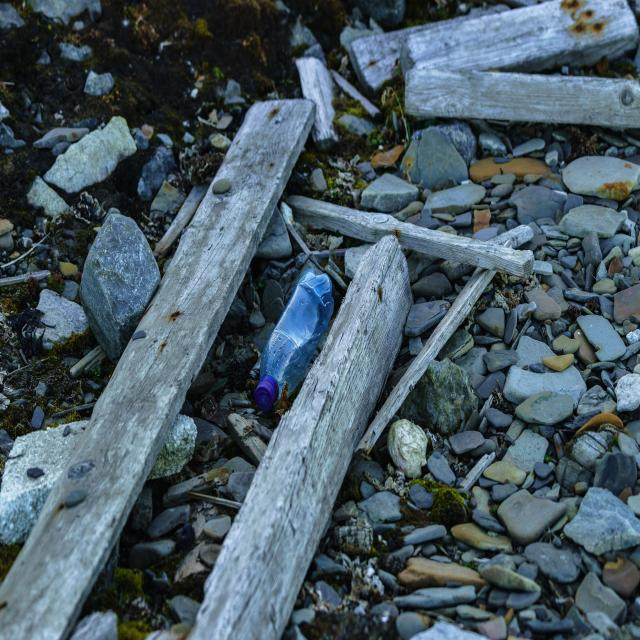litter: (261, 270, 332, 407)
